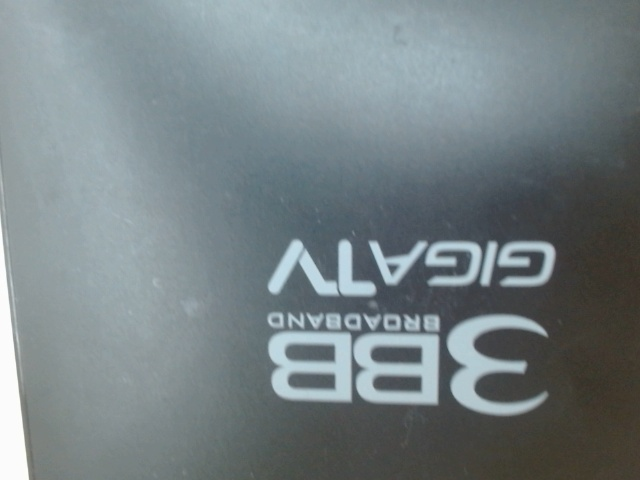AG_3BB: (257, 216, 574, 424)
